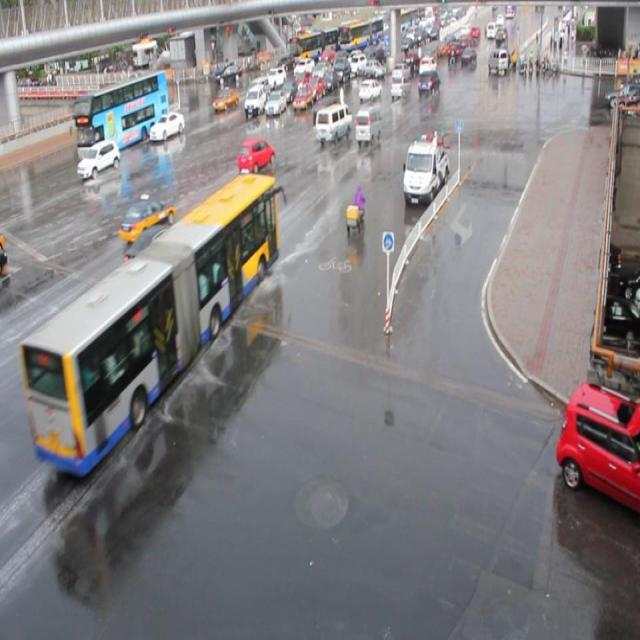BigCar: (11, 172, 288, 470), (69, 81, 154, 138), (337, 21, 386, 49), (295, 27, 330, 58)
car: (560, 385, 640, 511), (402, 131, 449, 209), (119, 189, 177, 242), (309, 100, 352, 152), (78, 142, 122, 182), (238, 134, 276, 180), (146, 110, 193, 146), (354, 106, 382, 151), (244, 83, 268, 118), (211, 87, 239, 116), (265, 81, 284, 122), (391, 68, 410, 106), (359, 77, 383, 107), (213, 60, 244, 83), (294, 82, 316, 112), (488, 47, 507, 81), (364, 54, 386, 80), (419, 72, 440, 98), (463, 47, 478, 69)
